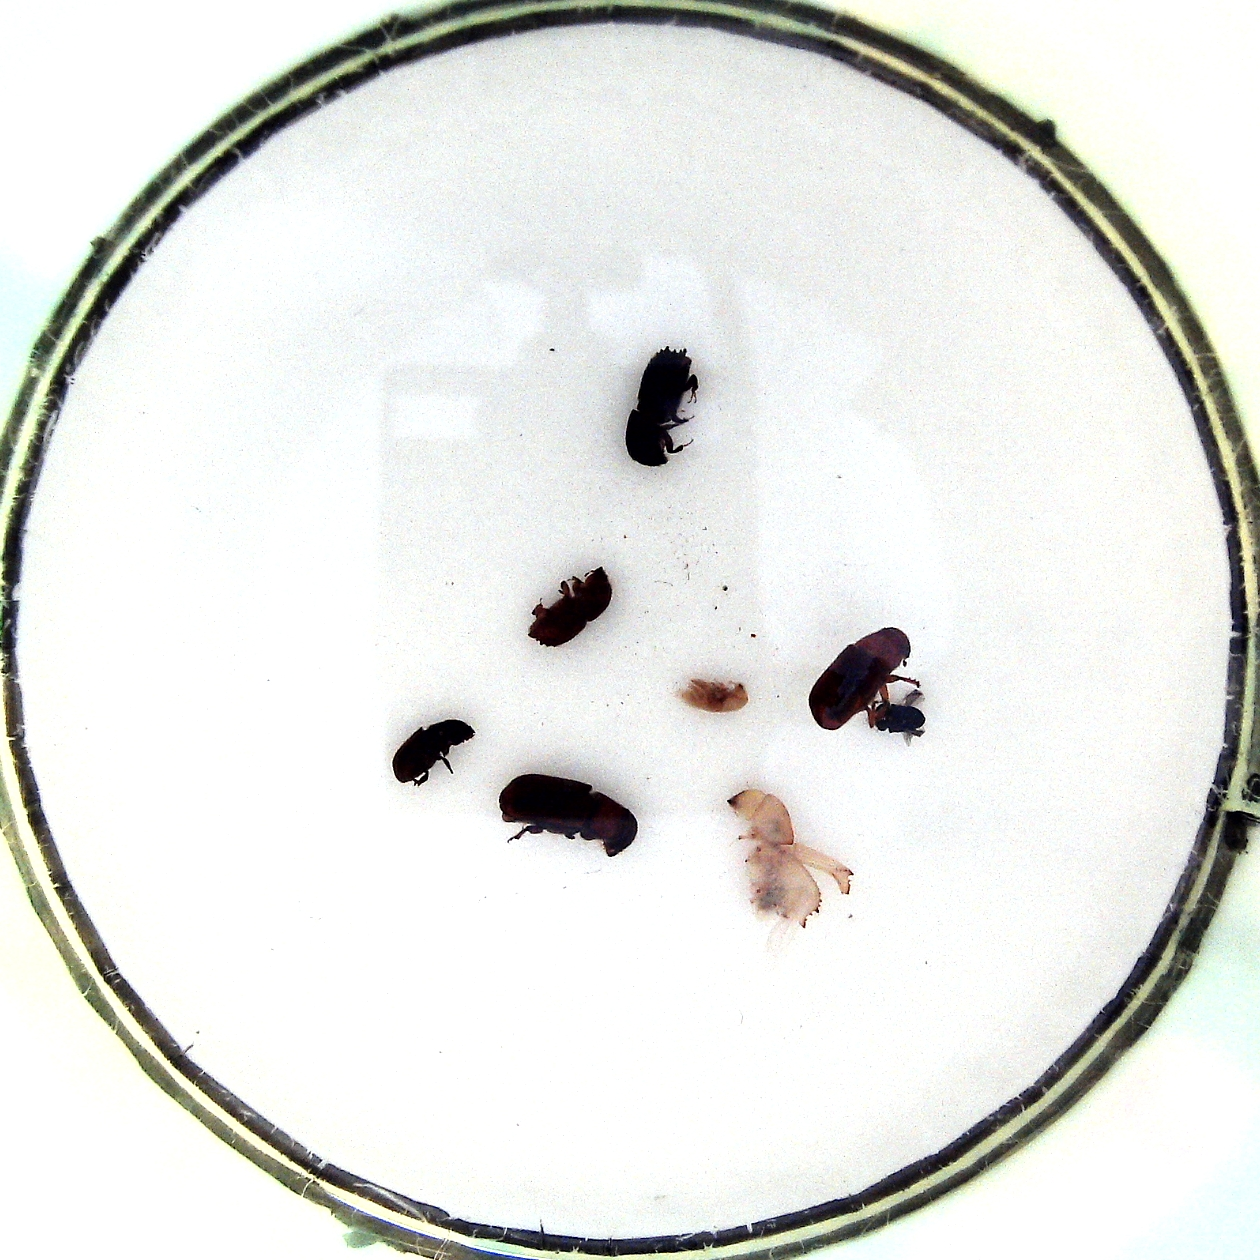Boerner: (723, 785, 850, 933), (622, 344, 702, 470)
Leconte: (487, 774, 640, 864), (804, 627, 914, 717)
Linnaeus: (517, 564, 615, 651)
acuminatus: (673, 675, 753, 715)
armandi: (391, 717, 477, 792)
coleoptera: (864, 690, 932, 747)
